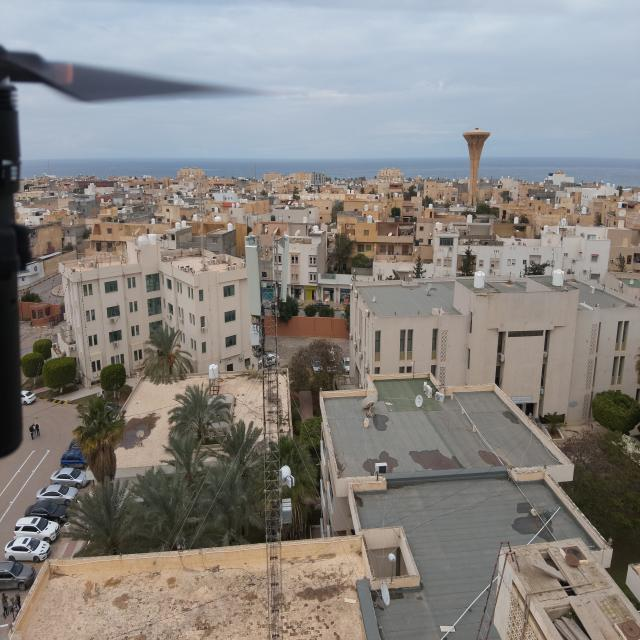antenna: (244, 245, 263, 316), (279, 234, 290, 302), (245, 235, 259, 246)
lighnig-rad: (253, 162, 259, 235)
microware-dish: (276, 465, 296, 489)
power-box: (280, 498, 292, 524)
radio-unit: (250, 324, 261, 347)
